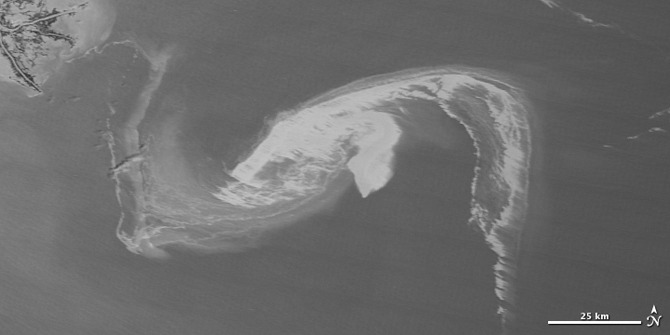anomaly: (154, 57, 603, 255)
